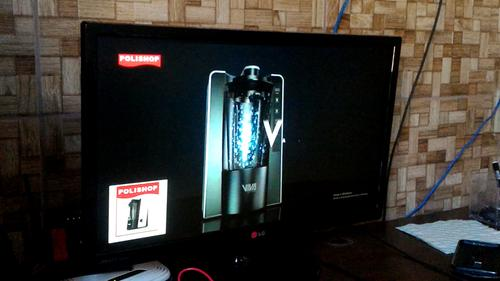Polishop #1: (107, 177, 167, 242)
